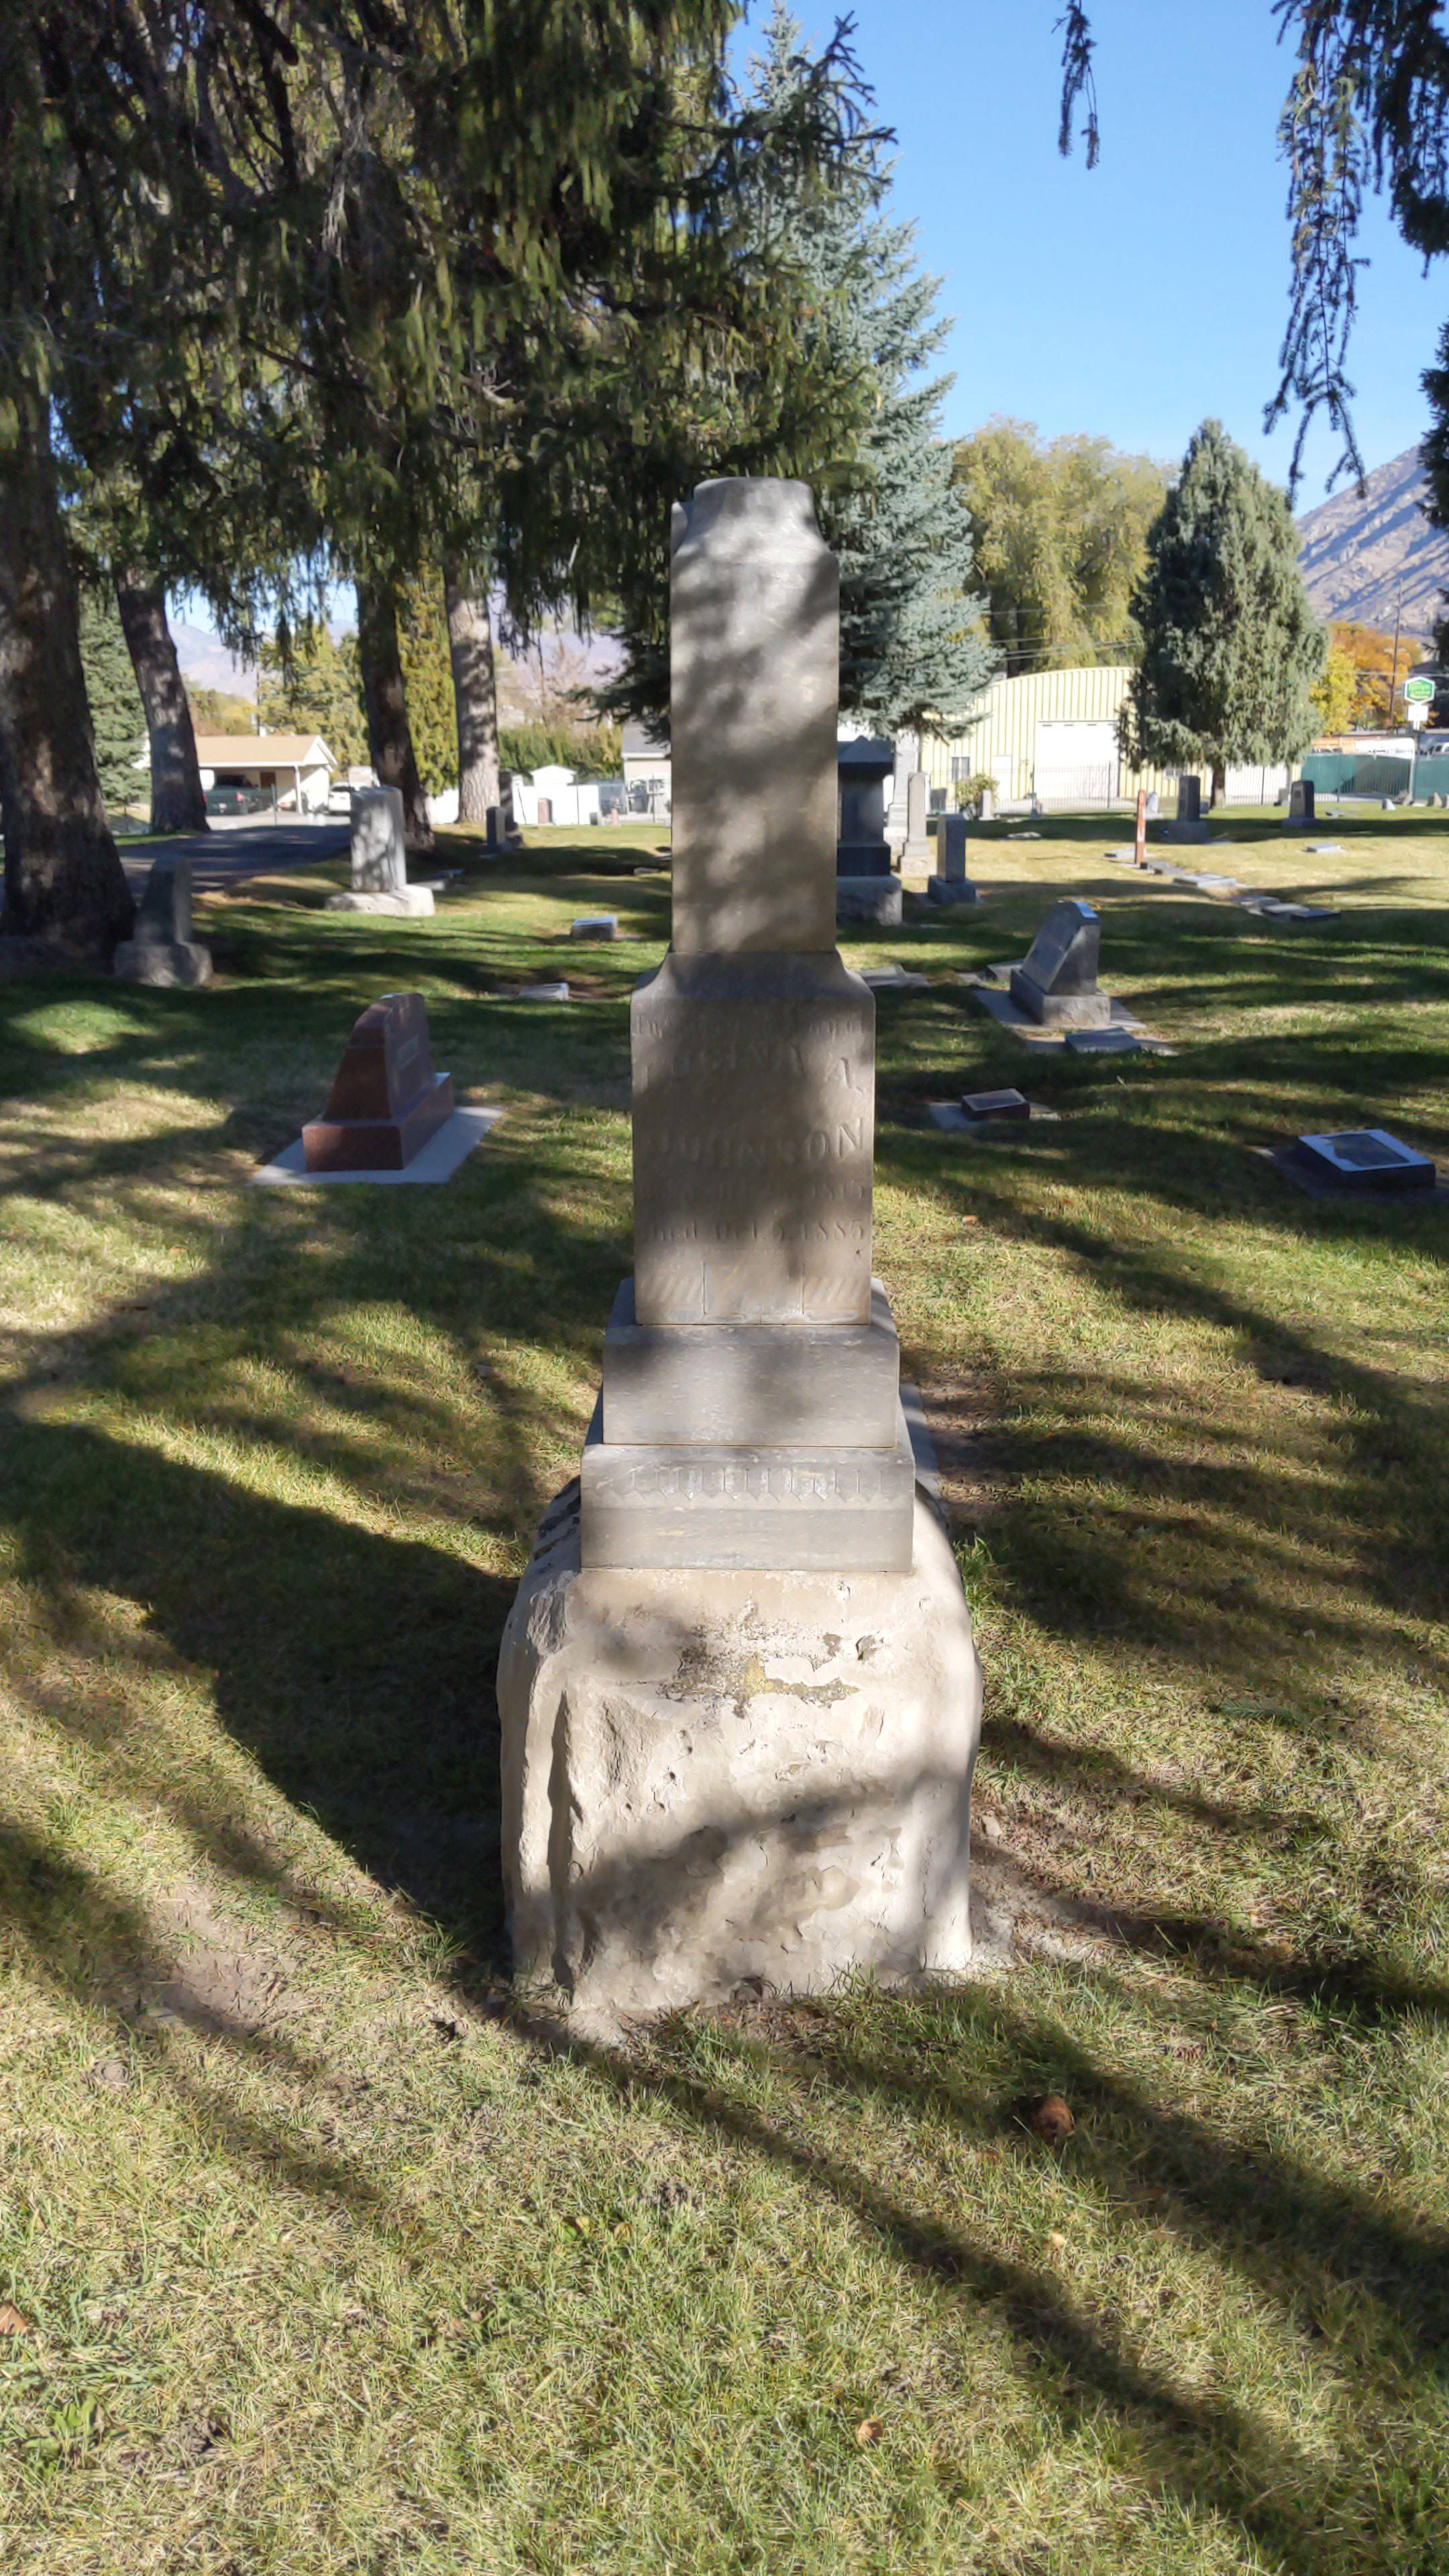obelisk: (577, 487, 922, 1589)
